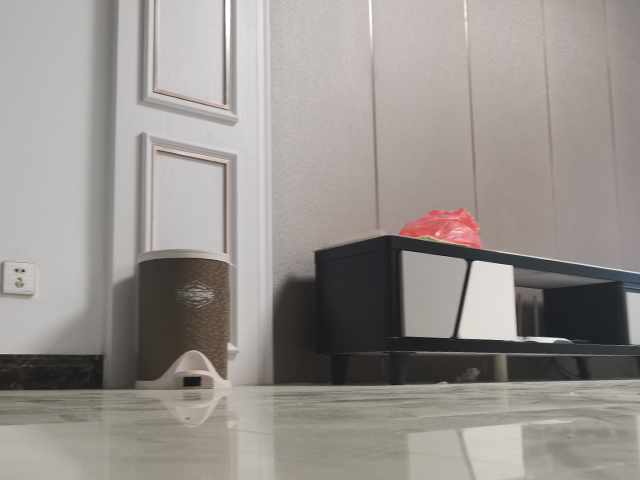cabinet: (313, 228, 640, 387)
trashcan: (132, 245, 236, 392)
